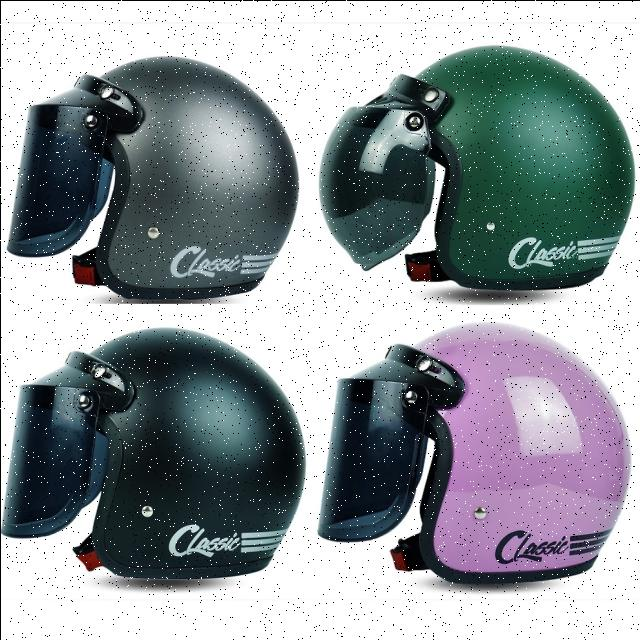Helmet: (3, 327, 305, 586), (16, 55, 300, 303), (397, 321, 631, 586), (416, 44, 637, 293)
